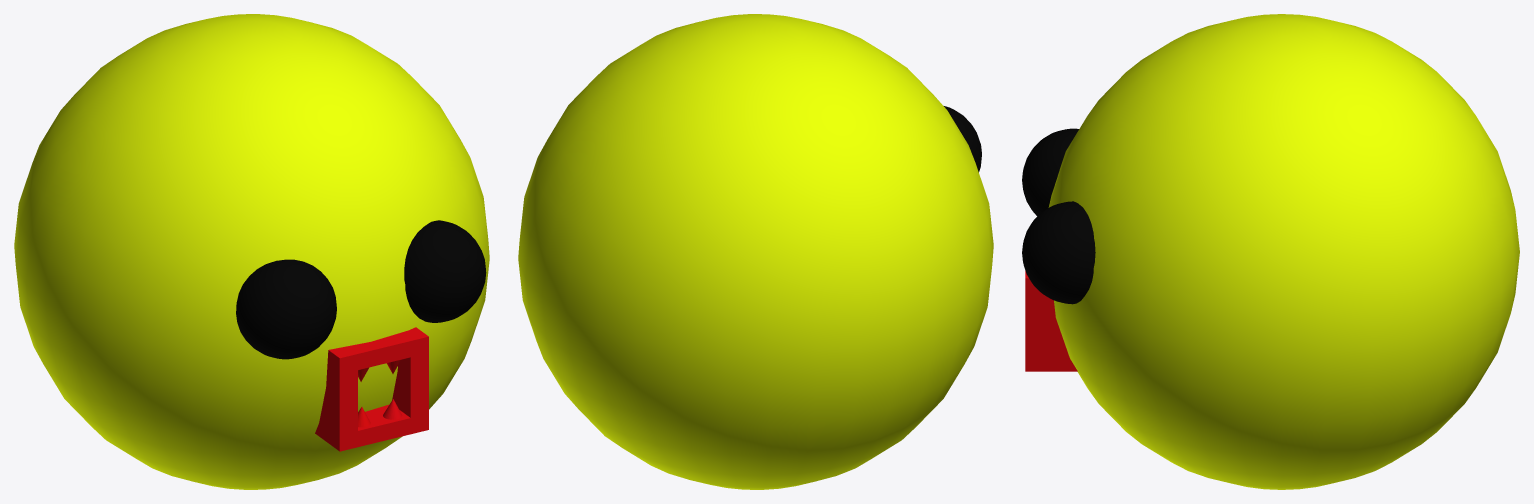
The picture shows the model from 3 angles, left to right: view 1: azimuth 30°, elevation 25°; view 2: azimuth 150°, elevation 25°; view 3: azimuth 270°, elevation 25°; orthographic projection.
Parts seen in each view (by area): view 1: Сфера.003, Куб, Сфера.004, Сфера.002; view 2: Сфера.003, Сфера.004; view 3: Сфера.003, Сфера.002, Куб, Сфера.004.
Boxes of the visible parts, bbox=[...] form: Сфера.003: bbox=[14, 14, 489, 489]; Куб: bbox=[315, 327, 428, 451]; Сфера.004: bbox=[236, 259, 336, 359]; Сфера.002: bbox=[404, 220, 486, 322]; Сфера.003: bbox=[518, 14, 993, 489]; Сфера.004: bbox=[944, 106, 981, 172]; Сфера.003: bbox=[1048, 14, 1519, 489]; Сфера.002: bbox=[1022, 201, 1095, 304]; Куб: bbox=[1025, 271, 1077, 371]; Сфера.004: bbox=[1022, 128, 1078, 216].
Size of the model in its own units: 9.26 by 9.26 by 9.68.
